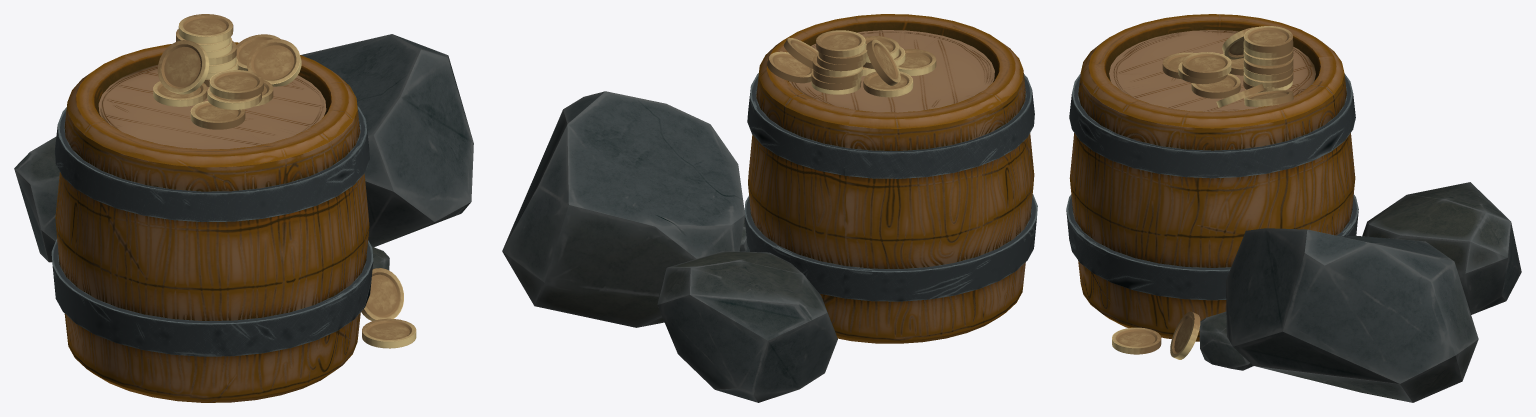
Rendered from B_Coin_C.fbx.
3 renders of one model, left to right at view 1: azimuth 30°, elevation 25°; view 2: azimuth 150°, elevation 25°; view 3: azimuth 270°, elevation 25°, orthographic. The views are drawn at different scales.
Visible parts, largest first — view 1: B_Coin/; view 2: B_Coin/; view 3: B_Coin/.
Part boxes in pixels (box(x1,y1,x2,y2)): B_Coin/: box(14, 14, 473, 402); B_Coin/: box(502, 14, 1037, 402); B_Coin/: box(1066, 14, 1521, 402).
Bounding box in the file's own units: 230 × 144 × 222.
